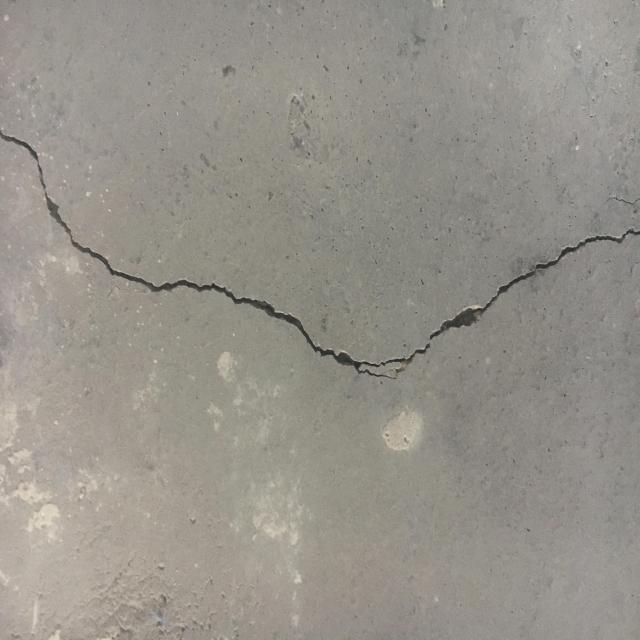SurfaceCrack: (1, 164, 640, 402)
